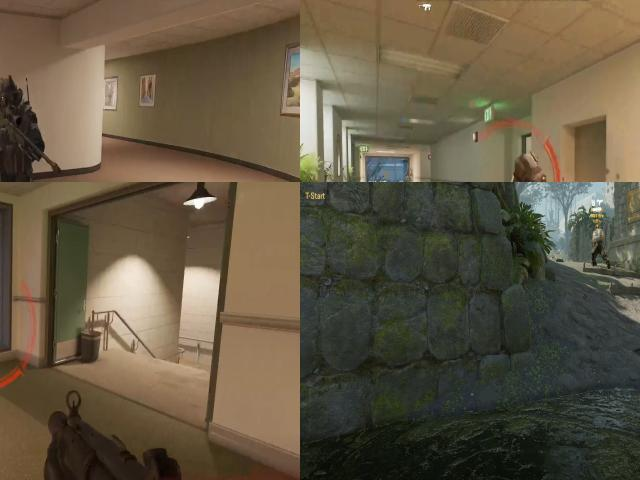CT: (0, 73, 40, 182), (485, 142, 558, 182)
CT-Head: (509, 154, 549, 182), (0, 76, 19, 111)
T: (592, 225, 604, 264)
T-Head: (594, 224, 600, 230)
